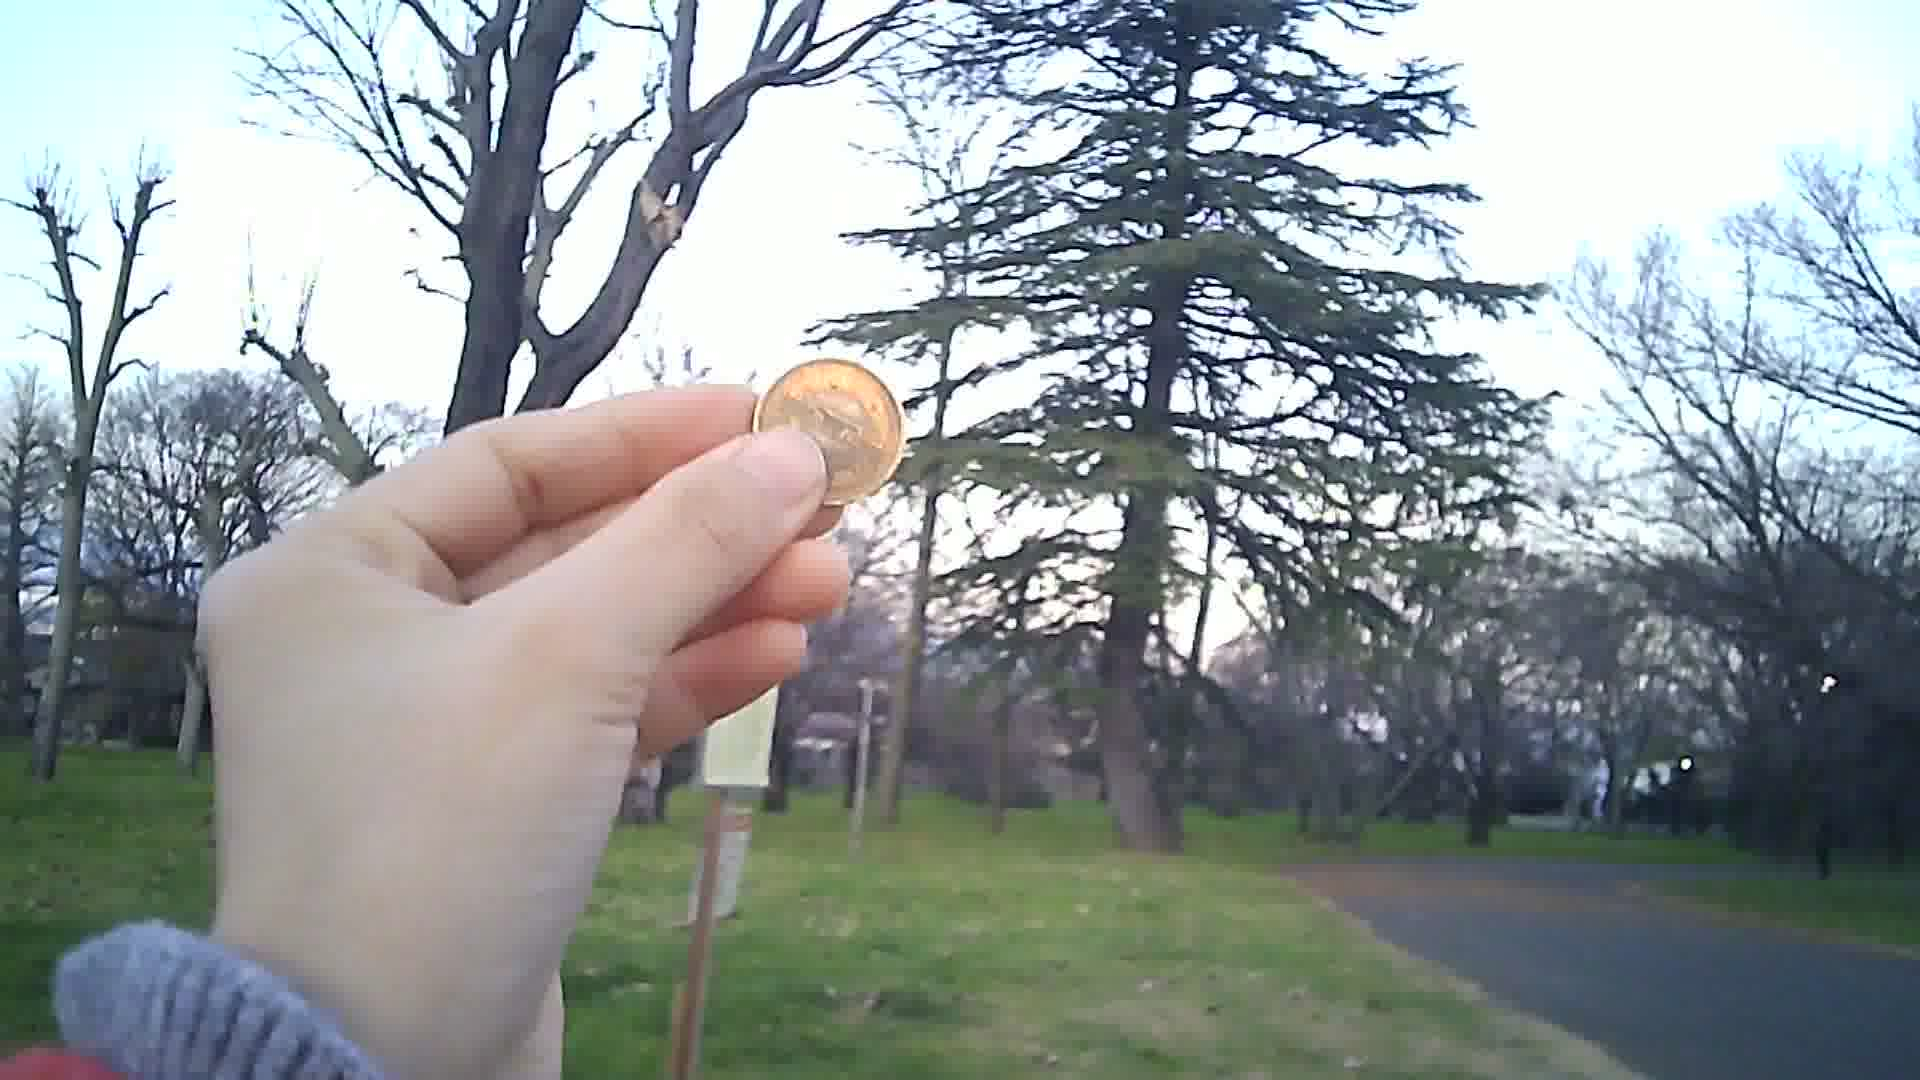10 Yen: (749, 348, 906, 516)
